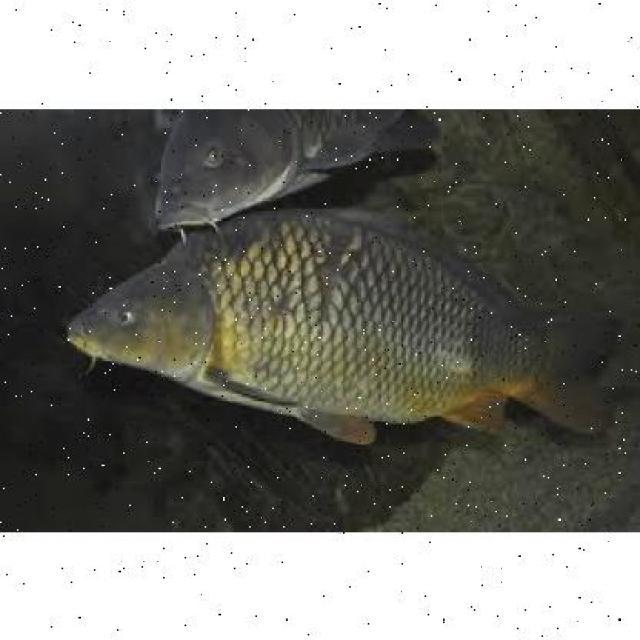ikan-mas: (64, 202, 590, 435), (127, 108, 427, 218)
